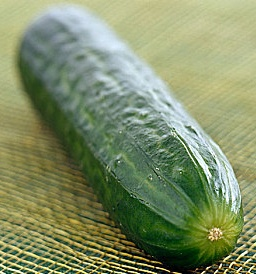cucumber: (16, 5, 243, 265)
